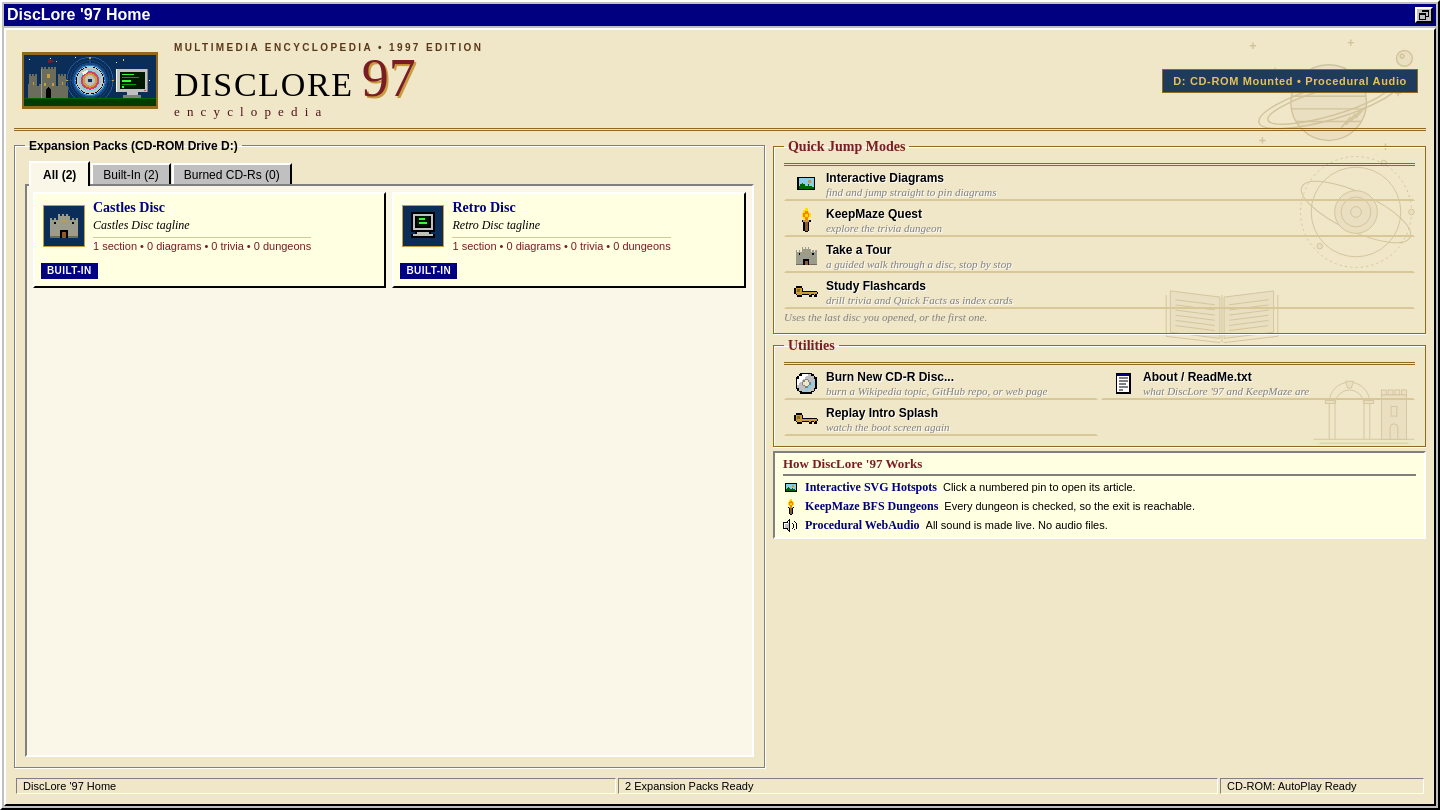
Scenario: Expansion Pack tabs › with only built-in discs, the Burned tab is empty and says what to do
Check: the tab "All (2)" is shown, box [29,161,90,186]
What coordinates should you click on to do the following:
click the tab "Burned CD-Rs (0)"
I would click on:
 (232, 173)
Its box is [172,163,292,184].
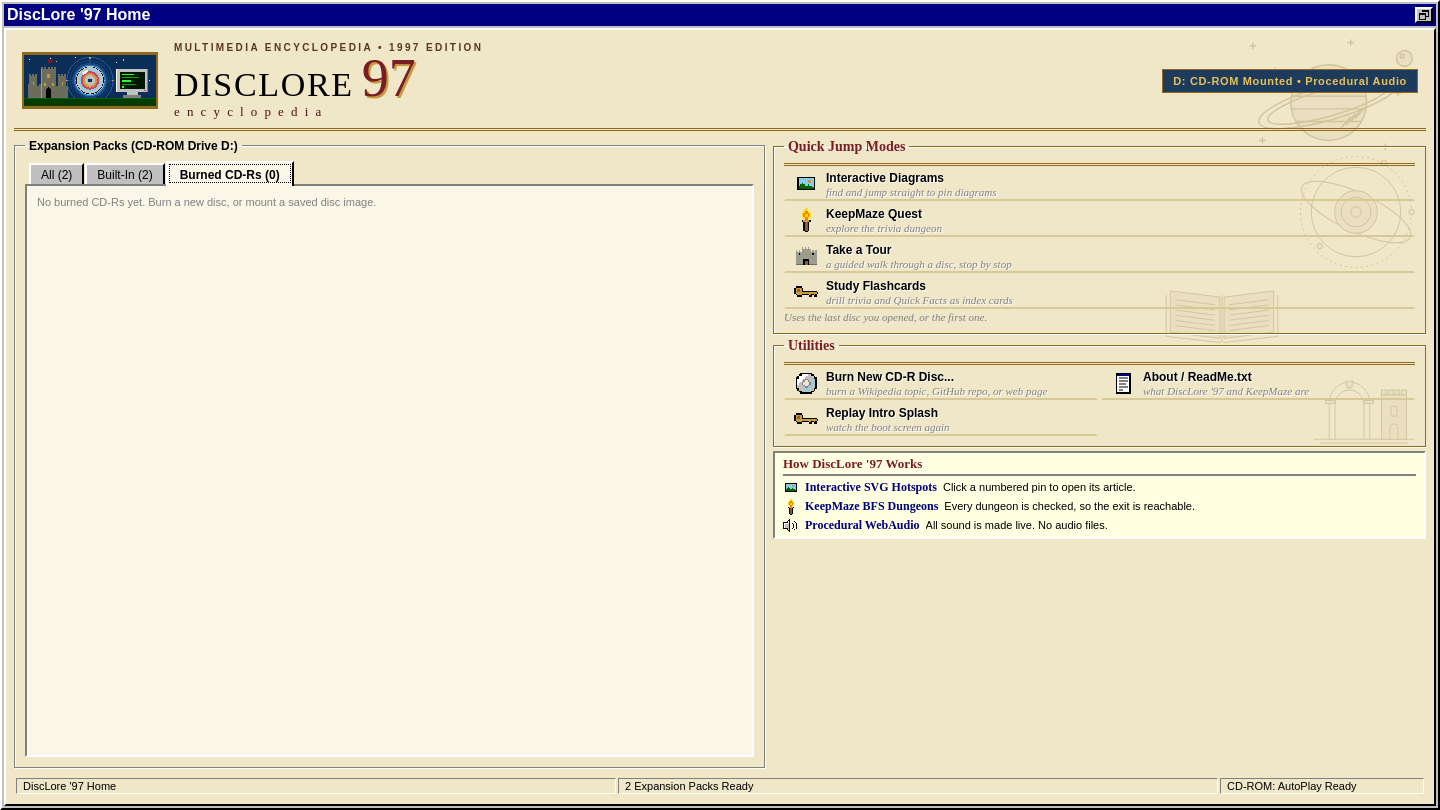
Check: the list "Discs" is gone
Check: the text "No burned CD-Rs yet" is shown, box [37,196,376,208]
